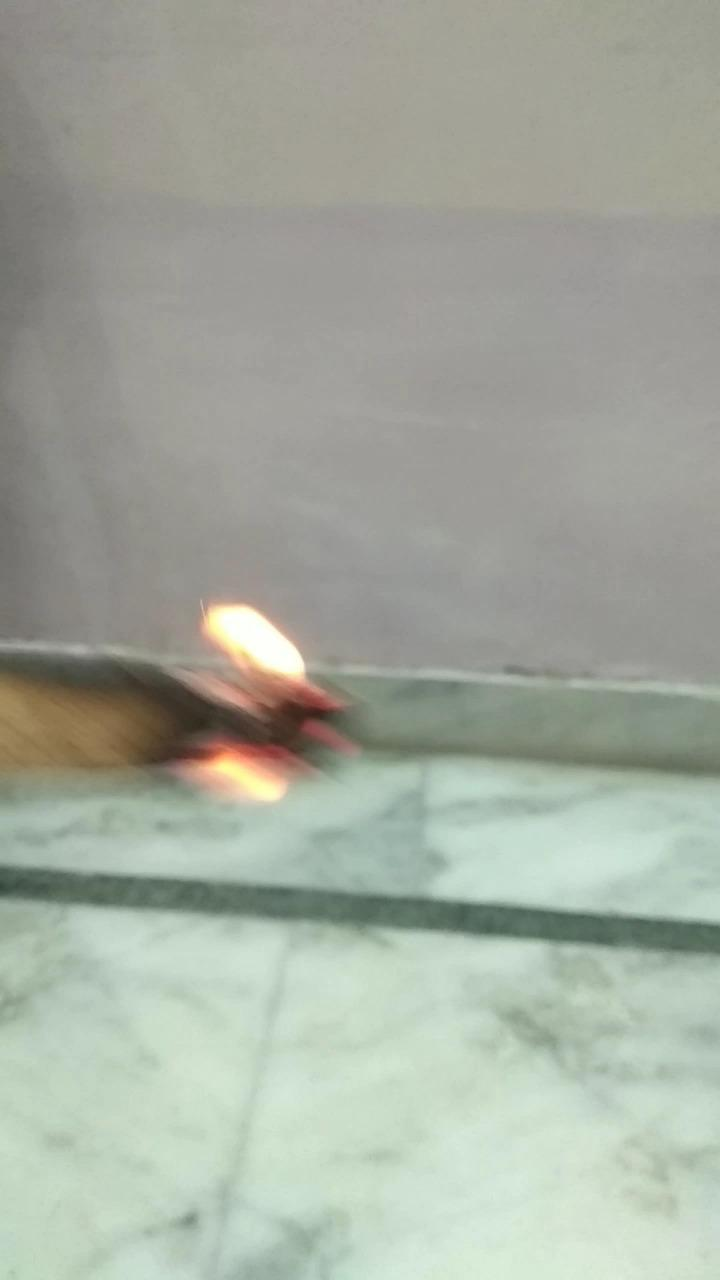fire: (169, 598, 336, 811)
